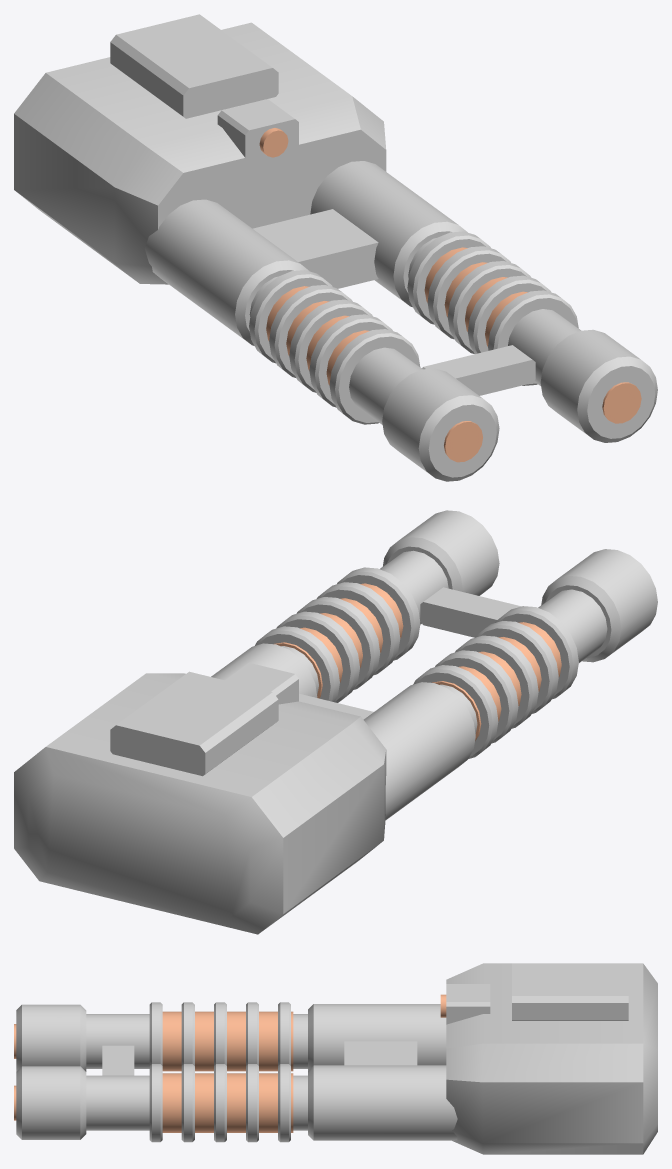
The model's file is drone_blaster.fbx.
3 views of the same model, one above another, from view 1: azimuth 30°, elevation 25°; view 2: azimuth 150°, elevation 25°; view 3: azimuth 270°, elevation 25° (orthographic). The views are drawn at different scales.
Parts seen in each view (by area): view 1: drone_blaster; view 2: drone_blaster; view 3: drone_blaster.
Boxes of the visible parts, bbox=[...] form: drone_blaster: bbox=[14, 14, 657, 481]; drone_blaster: bbox=[14, 510, 657, 934]; drone_blaster: bbox=[14, 963, 657, 1154].
Bounding box in the file's own units: 0.17 × 0.1 × 0.4415.
